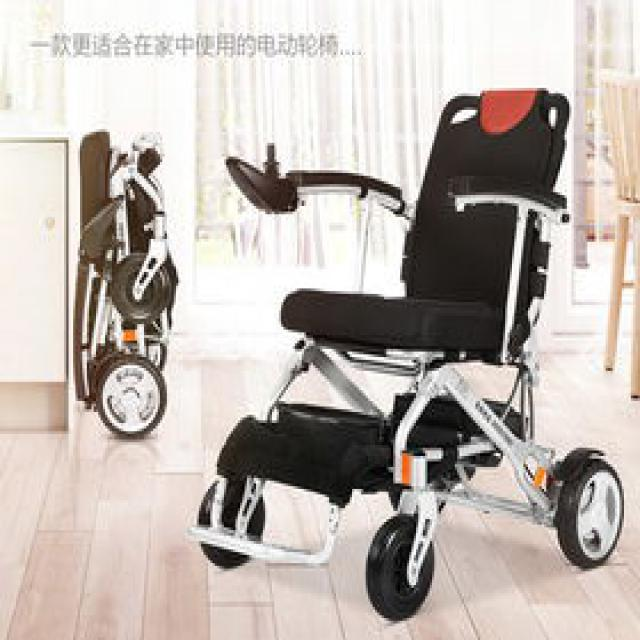wheelchair: (208, 77, 638, 612)
